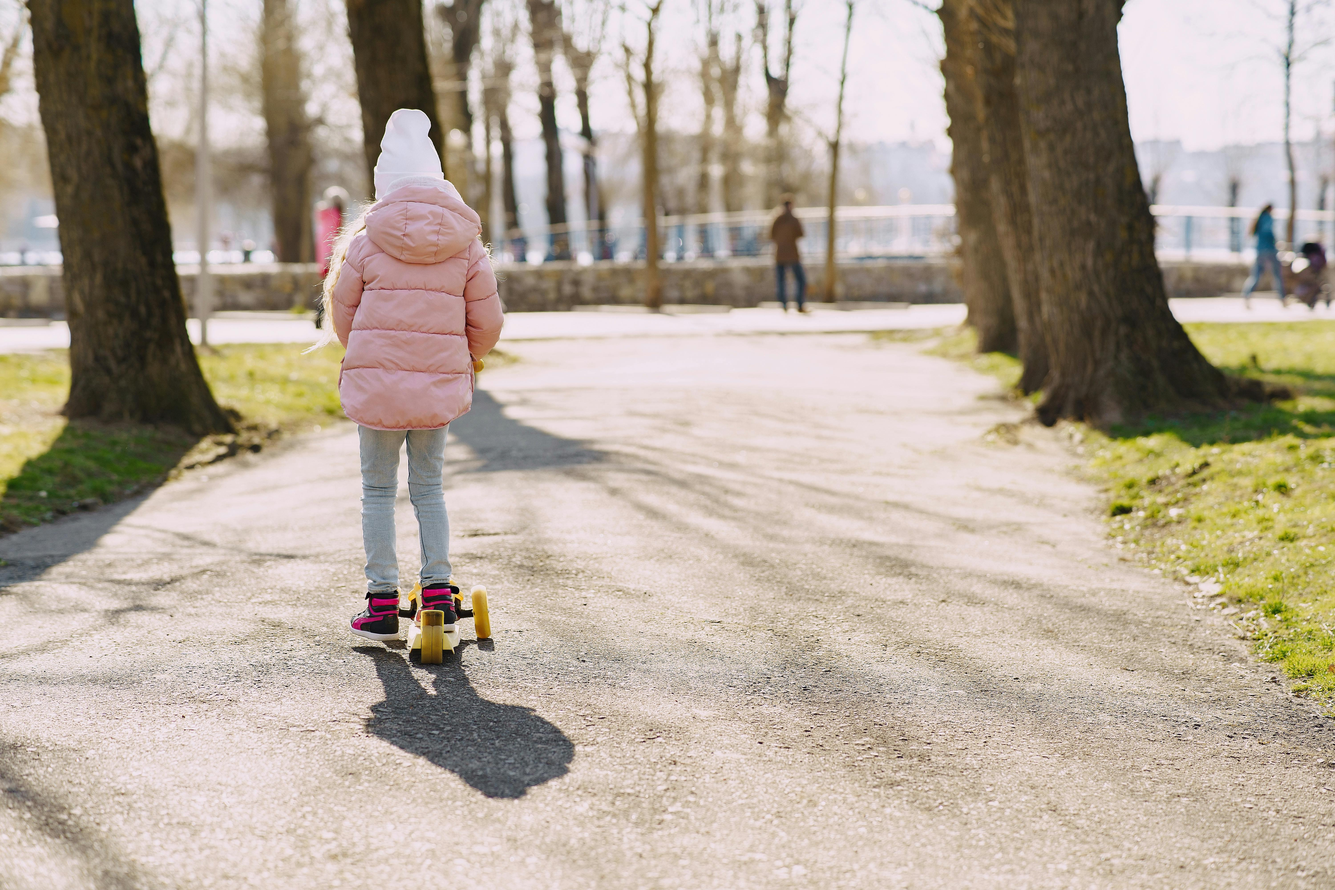Human: (303, 81, 511, 635)
